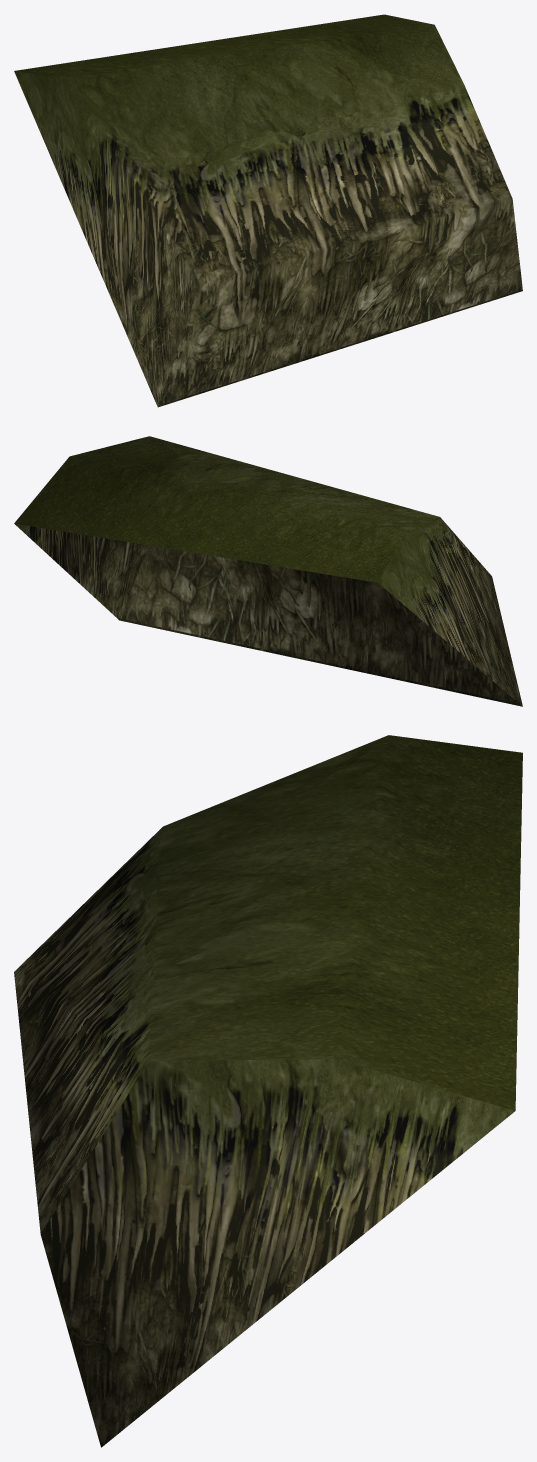
Rendered from MEP_Dirtedge_05.fbx.
The picture shows the model from 3 angles, top to bottom: view 1: azimuth 30°, elevation 25°; view 2: azimuth 150°, elevation 25°; view 3: azimuth 270°, elevation 25°; orthographic projection. The views are drawn at different scales.
Visible parts, largest first — view 1: MEP_DIrtEdge_05; view 2: MEP_DIrtEdge_05; view 3: MEP_DIrtEdge_05.
Part boxes in pixels (x1,y1,x2,y2): MEP_DIrtEdge_05: [14, 14, 522, 407]; MEP_DIrtEdge_05: [14, 436, 522, 706]; MEP_DIrtEdge_05: [14, 735, 522, 1447].
Bounding box in the file's own units: 6.25 × 3.83 × 4.22.
